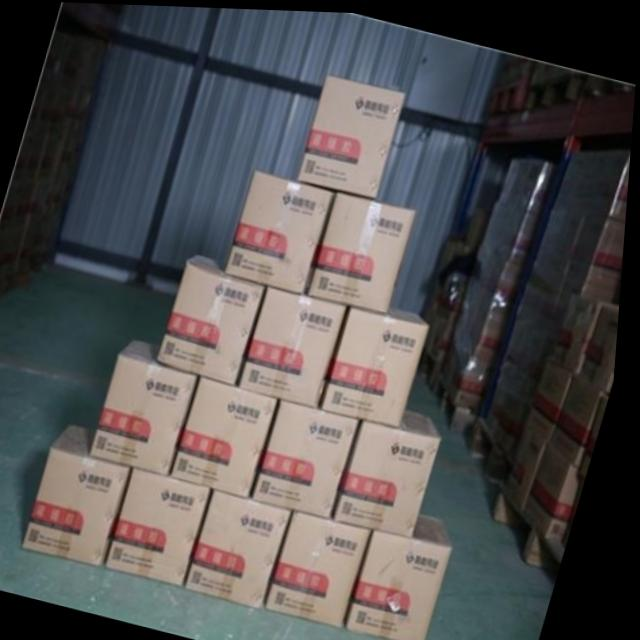box: (28, 424, 138, 565), (94, 337, 205, 472), (352, 509, 461, 640), (161, 252, 268, 383), (227, 168, 337, 291), (340, 407, 447, 533), (300, 71, 407, 196), (328, 301, 435, 425), (310, 190, 419, 310), (177, 375, 284, 497), (256, 397, 364, 516), (112, 466, 218, 586), (245, 285, 351, 404), (193, 488, 299, 607), (273, 508, 378, 626), (530, 438, 593, 536), (509, 403, 561, 511), (557, 369, 615, 465), (557, 145, 633, 216), (583, 298, 623, 386), (574, 209, 628, 267), (538, 355, 578, 422), (543, 205, 586, 252)
